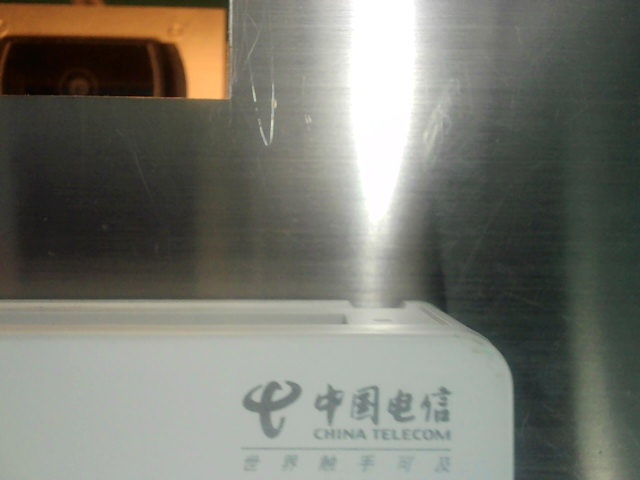AB_ChinaTelecom: (226, 362, 467, 476)
